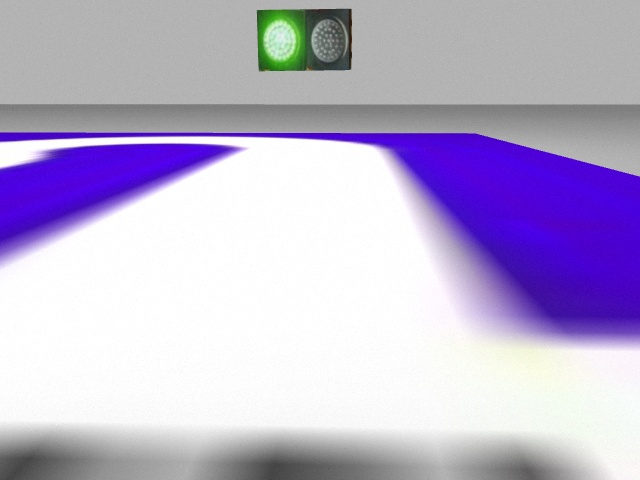green: (257, 9, 308, 72)
